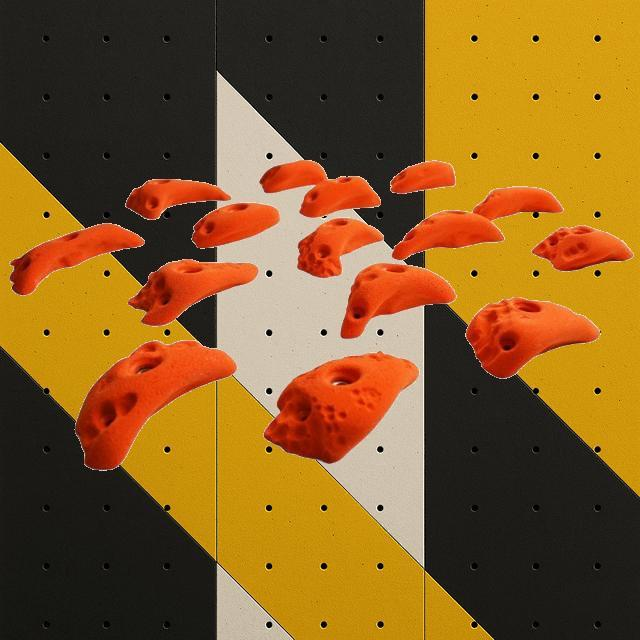Jug: (75, 338, 237, 470), (263, 351, 419, 464), (464, 296, 600, 378), (8, 222, 144, 296), (340, 262, 456, 340), (128, 258, 258, 326), (392, 211, 504, 261), (296, 218, 382, 276), (530, 226, 634, 272), (125, 178, 231, 220), (191, 202, 279, 248), (299, 176, 379, 218), (475, 187, 563, 220), (261, 160, 327, 192), (390, 162, 456, 194)
